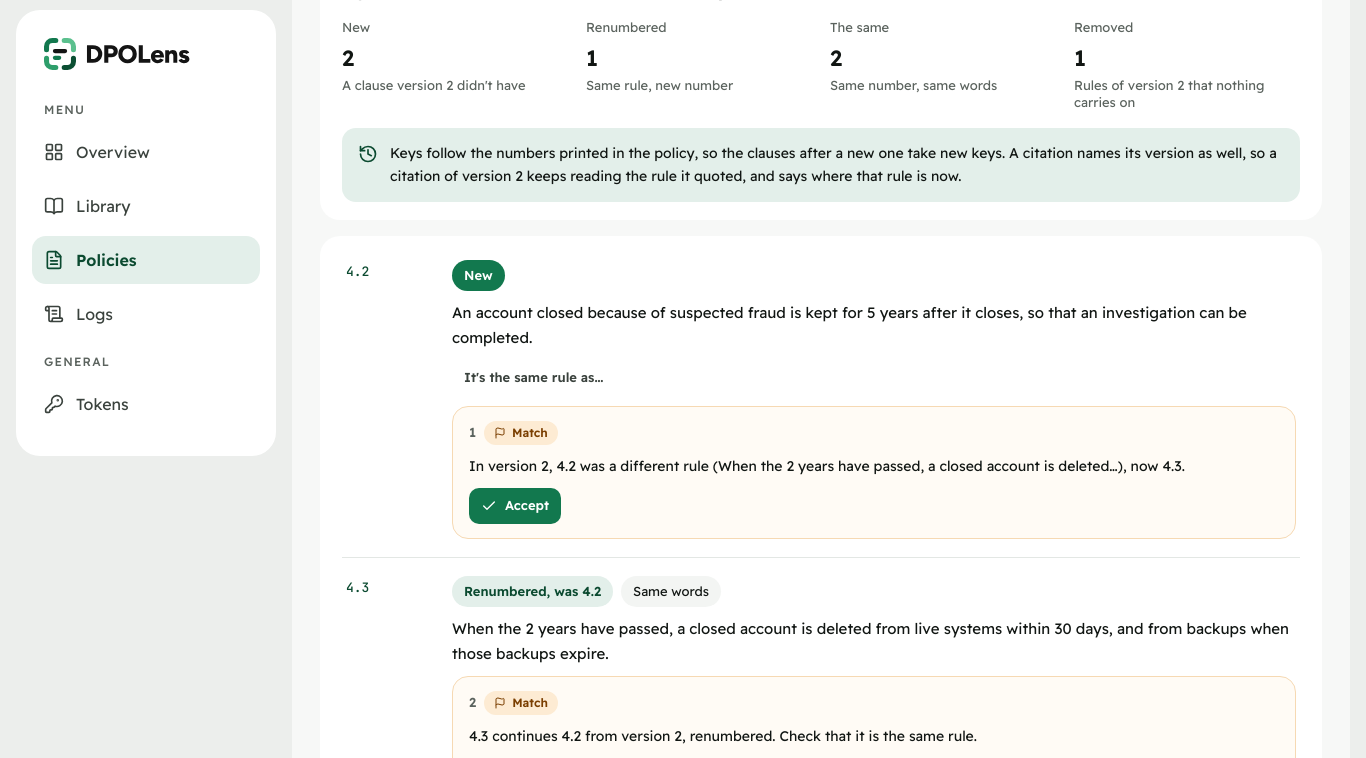
Test: a draft under review › lets any new clause be said to be a rule nothing continues, closest first
This screenshot has width=1366, height=758.
(page scrolled)
Click the button "It's the same rule as…". click: (534, 378)
box: [452,360,615,396]
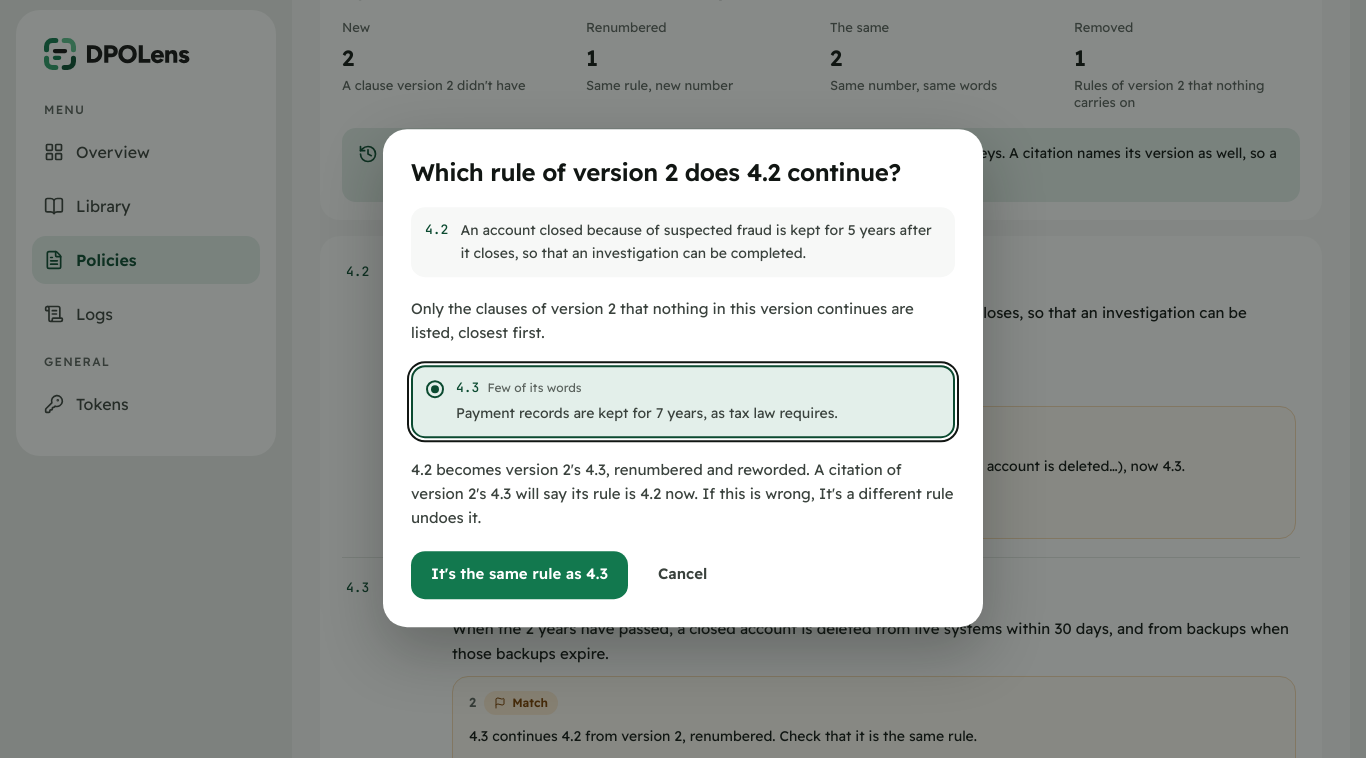
Expected: the radio button is checked, [411,365,955,438]
Expected: the dialog "Which rule of version 2 does 4.2 continue?" shows "4.2 becomes version 2's 4.3, renumbered and reworded. A citation of version 2's 4.3 will say its rule is 4.2 now.", [411,460,954,528]
Click the button "It's the same rule as 4.3". click: (520, 575)
box: [411,551,628,599]
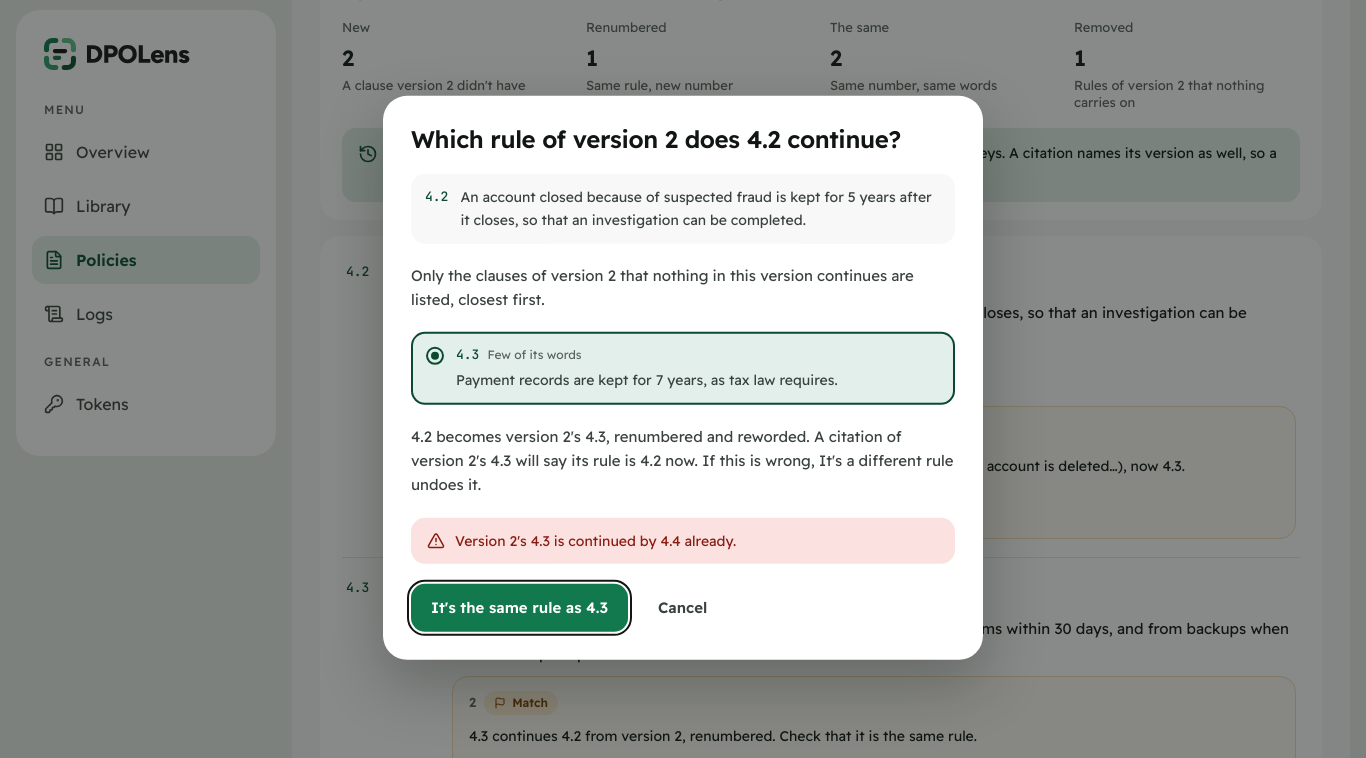
Expected: the text "Version 2's 4.3 is continued by 4.4 already." is shown, [455,529,736,552]
